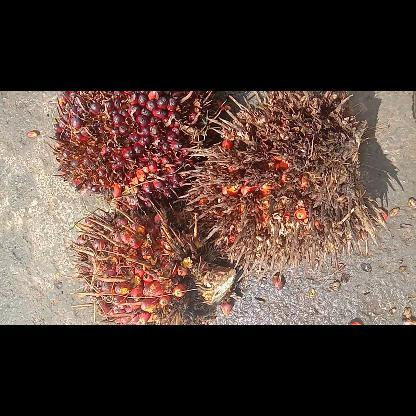TBS masak: (66, 196, 236, 324), (47, 90, 219, 212)
Terlalu masak: (174, 90, 387, 280)
